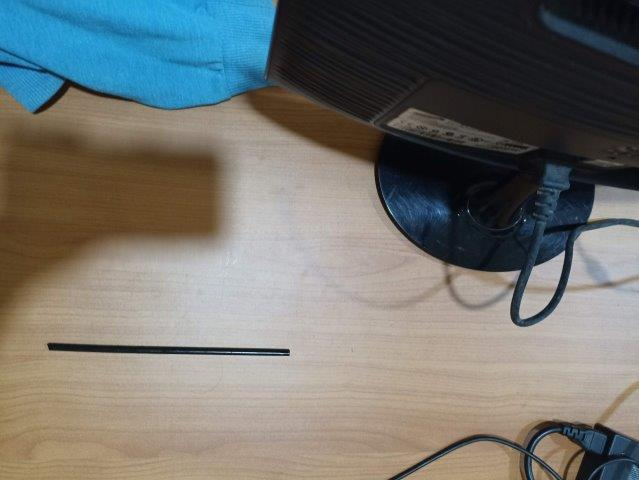sedotan: (48, 343, 290, 356)
